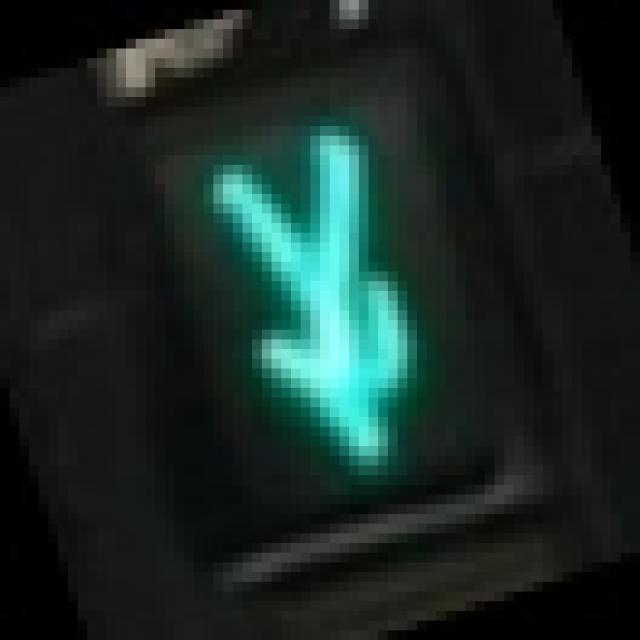green_light: (107, 58, 504, 553)
